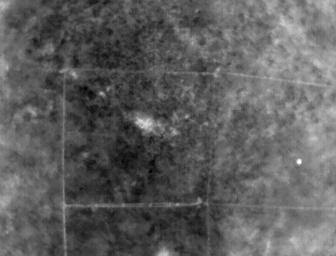landmine: (136, 117, 154, 132)
